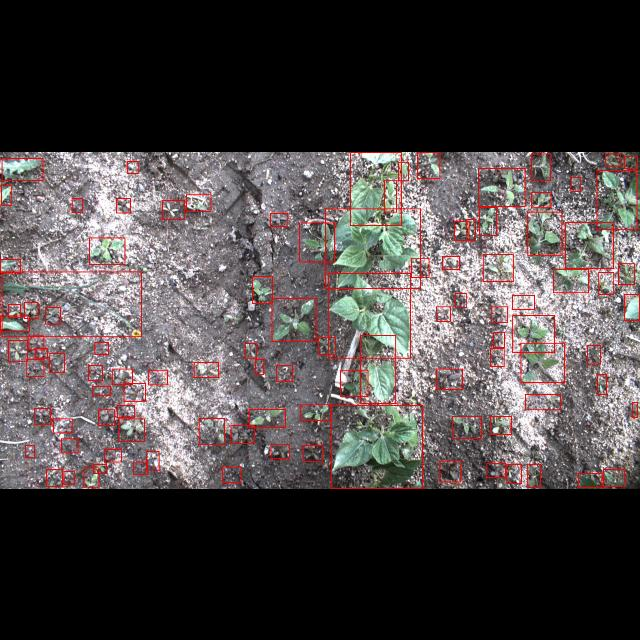crop: (331, 406, 423, 488), (326, 208, 420, 288), (328, 272, 410, 358), (351, 152, 402, 224), (360, 335, 396, 403)
weed: (1, 272, 140, 336), (597, 169, 637, 229), (565, 222, 613, 268), (272, 298, 316, 340), (521, 342, 565, 382), (479, 168, 525, 206), (512, 316, 554, 352), (528, 212, 562, 254), (300, 222, 334, 262), (89, 237, 125, 263), (2, 157, 42, 179), (483, 253, 513, 281), (554, 268, 588, 292), (340, 370, 368, 396), (249, 408, 285, 428), (199, 418, 225, 444), (452, 416, 482, 438), (120, 418, 144, 442), (418, 152, 440, 178), (526, 394, 560, 410), (252, 276, 272, 302), (436, 369, 462, 389), (479, 207, 496, 236), (532, 153, 550, 180), (300, 404, 330, 420), (1, 315, 30, 331), (186, 193, 212, 210), (8, 339, 28, 361), (162, 199, 184, 219), (440, 461, 460, 482), (624, 294, 640, 320), (230, 425, 253, 443), (124, 383, 146, 401), (491, 416, 512, 434), (384, 180, 396, 210), (598, 272, 614, 294), (618, 262, 634, 284), (604, 469, 624, 486), (194, 362, 218, 376), (578, 473, 602, 487), (318, 336, 336, 354), (411, 258, 429, 276), (303, 445, 323, 461), (112, 368, 132, 384), (506, 464, 522, 484), (454, 220, 470, 240), (512, 295, 534, 309), (26, 359, 44, 376), (222, 466, 240, 482), (0, 258, 20, 272), (270, 444, 290, 458), (148, 370, 168, 384), (84, 468, 98, 488), (50, 352, 64, 372), (486, 463, 506, 477), (531, 192, 551, 206), (587, 344, 601, 364), (46, 469, 62, 486), (528, 464, 540, 486), (276, 365, 292, 381), (98, 409, 114, 425), (34, 408, 50, 424), (492, 306, 508, 322), (46, 306, 60, 324), (54, 418, 72, 432), (442, 255, 460, 269), (490, 348, 504, 366), (105, 448, 122, 462), (270, 212, 288, 225), (146, 452, 158, 471), (88, 364, 102, 380), (62, 439, 78, 453), (28, 335, 44, 349), (24, 302, 38, 318), (466, 218, 476, 240), (1, 184, 11, 204), (399, 160, 409, 180), (437, 306, 451, 320), (116, 198, 130, 212), (118, 405, 134, 417), (92, 385, 110, 395), (133, 462, 147, 474), (95, 342, 109, 354), (606, 153, 620, 165), (624, 155, 638, 167), (246, 342, 256, 358), (598, 374, 606, 394), (494, 331, 504, 347), (7, 304, 20, 316), (126, 160, 138, 172), (72, 198, 82, 212), (456, 293, 466, 307), (571, 177, 581, 191), (64, 471, 74, 484), (256, 358, 264, 374), (35, 348, 47, 358), (94, 463, 106, 472), (26, 445, 34, 457), (632, 402, 638, 418)
